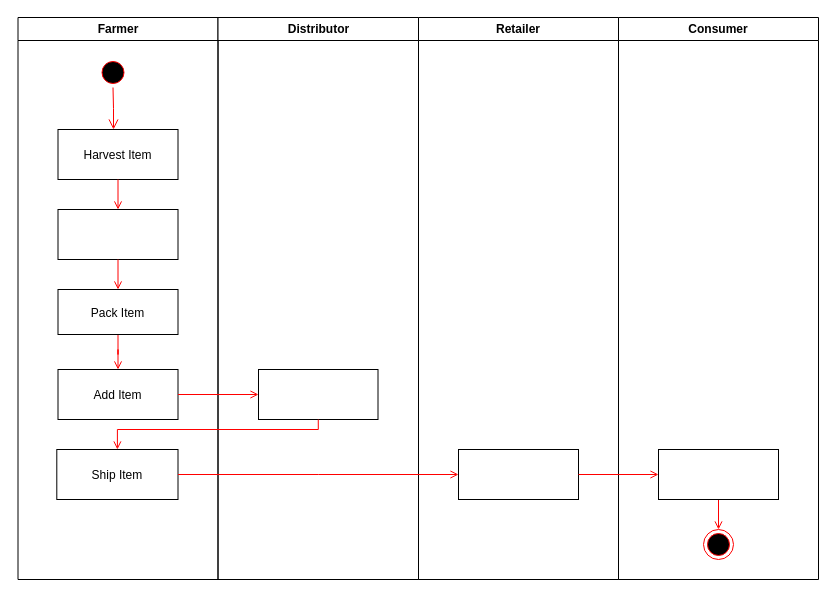
This 836x597 diagram has some shape labels left out. The centre of each missing label's shape, as x and y in pixels:
"Buy Item" belongs at point 318,394.
"Process Item" belongs at point 117,234.
"Purchase Item" belongs at point 718,474.
"Receive Item" belongs at point 518,474.
